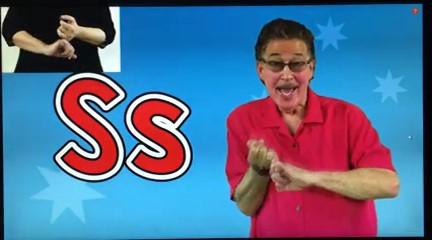S: (242, 132, 324, 201)
